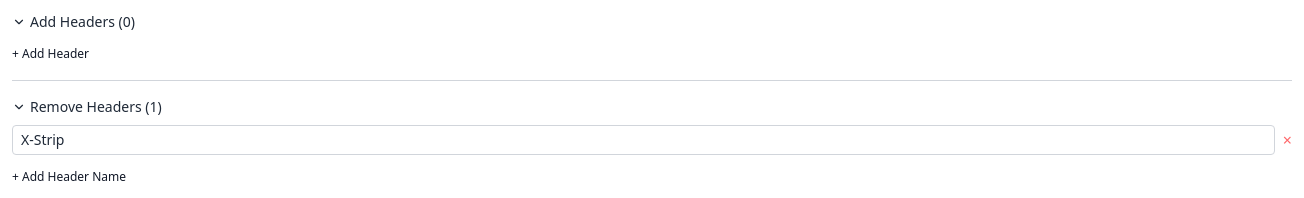
Test: MappingHeadersEditor › Collapsible sections › toggles Remove Headers section
Expected: the field with test id "remove-header-name-0" is shown, x1=12 y1=125 x2=1275 y2=155
Click the button with test id "remove-headers-toggle" at x=90, y=106, box x1=12 y1=97 x2=1292 y2=117
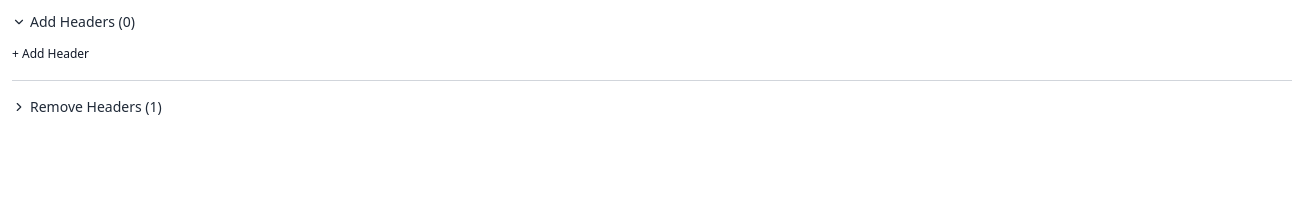
Expected: the field with test id "remove-header-name-0" is gone
